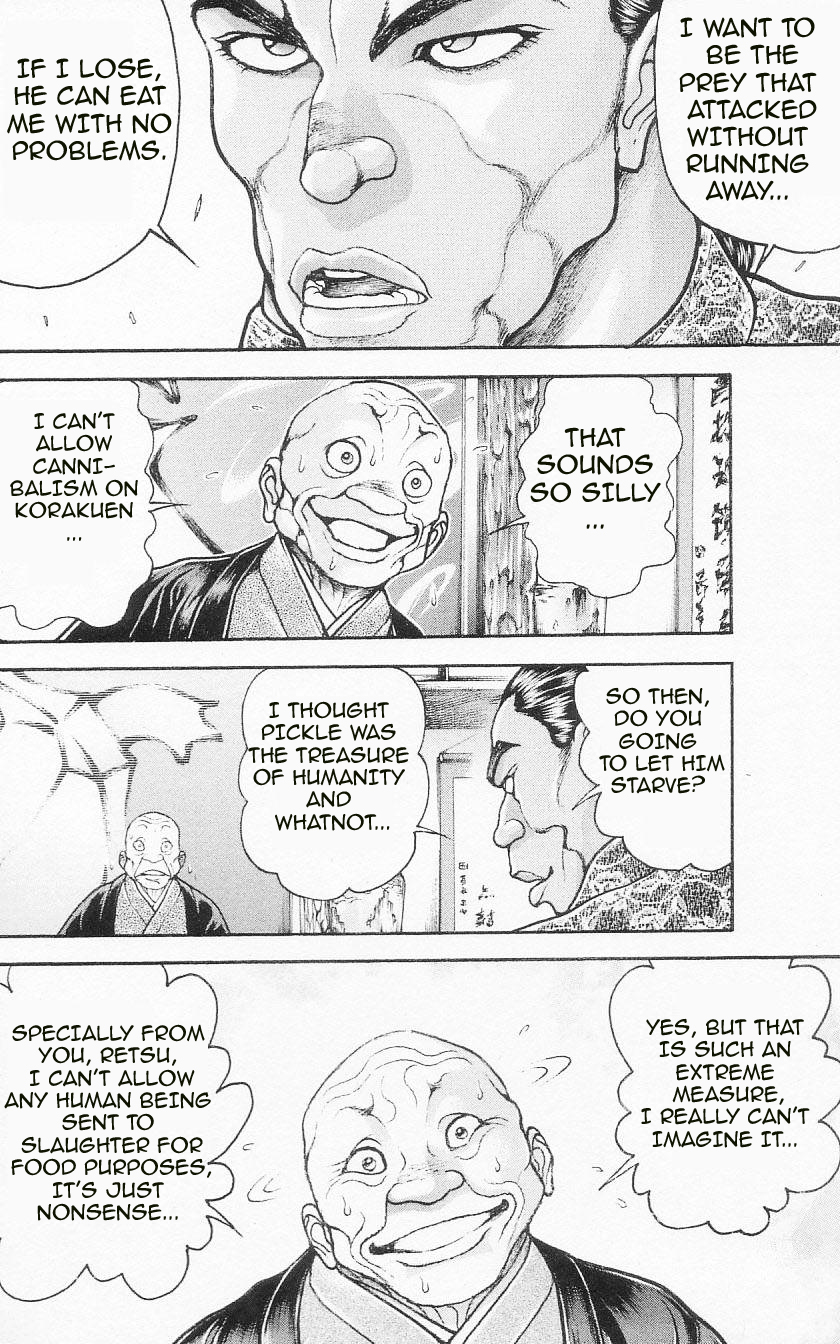Baloon: (2, 953, 255, 1306), (604, 947, 840, 1243), (1, 1, 188, 292), (235, 667, 451, 898), (651, 8, 840, 257), (1, 380, 161, 628), (510, 378, 682, 594), (574, 667, 727, 872)
Vignetta: (1, 955, 839, 1344), (1, 1, 835, 357), (1, 659, 733, 937), (1, 369, 733, 644)
